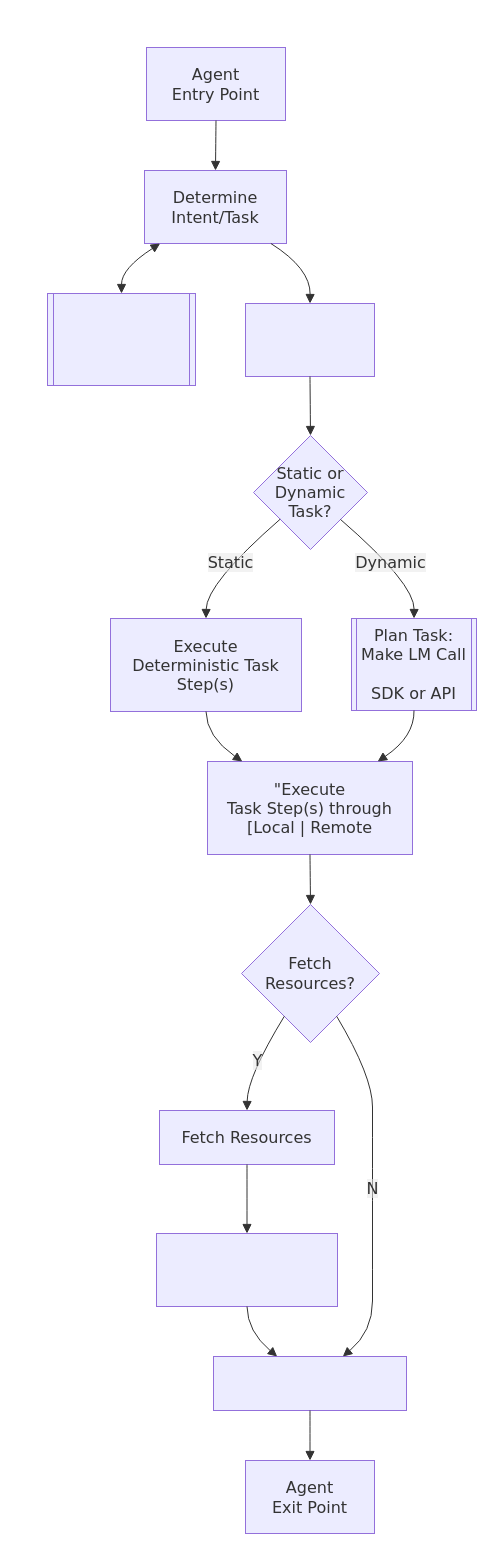
This 494x1551 diagram has some shape labels left out. Each missing label, with the centre of its shape:
Determine Task: Make LM Call SDK or API: point 121,339
Execute Business Logic: point 247,1269
Summarize Output: point 309,1383
Switch on Task: point 309,339
